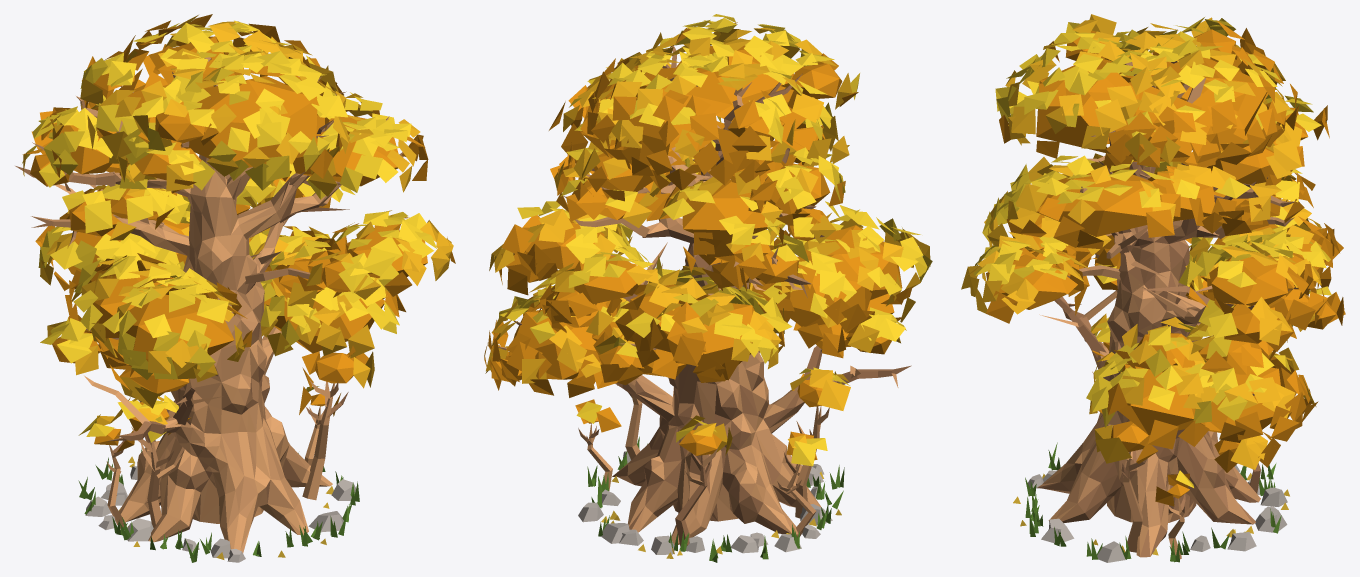
Rendered from giant_ginkgo_bloom.glb.
3 views of the same model, side by side, from view 1: azimuth 30°, elevation 25°; view 2: azimuth 150°, elevation 25°; view 3: azimuth 270°, elevation 25° (orthographic).
Visible parts, largest first — view 1: giant_ginkgo_bloom; view 2: giant_ginkgo_bloom; view 3: giant_ginkgo_bloom.
Boxes of the visible parts, x1=… form: giant_ginkgo_bloom: x1=15, y1=14, x2=455, y2=562; giant_ginkgo_bloom: x1=484, y1=14, x2=932, y2=562; giant_ginkgo_bloom: x1=961, y1=14, x2=1345, y2=562.
Bounding box in the file's own units: 25.48 × 31.12 × 23.15.
